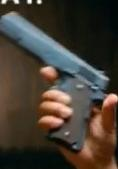gun: (1, 1, 118, 169)
